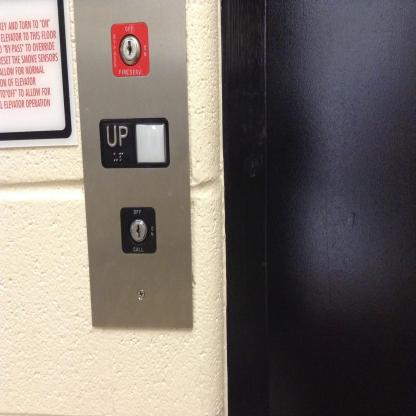UP: (98, 113, 172, 170)
bt_keyhole: (110, 20, 152, 79), (118, 204, 158, 256)
